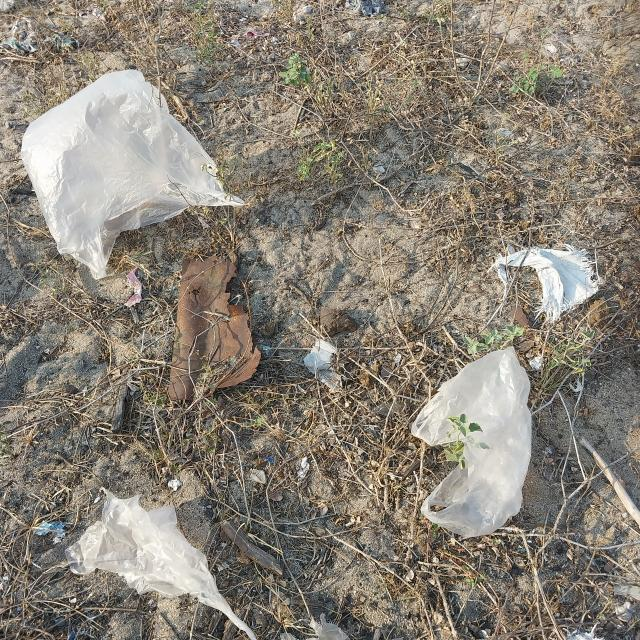Single-layer Plastic: (19, 62, 255, 300), (399, 318, 545, 564), (61, 469, 270, 640)
